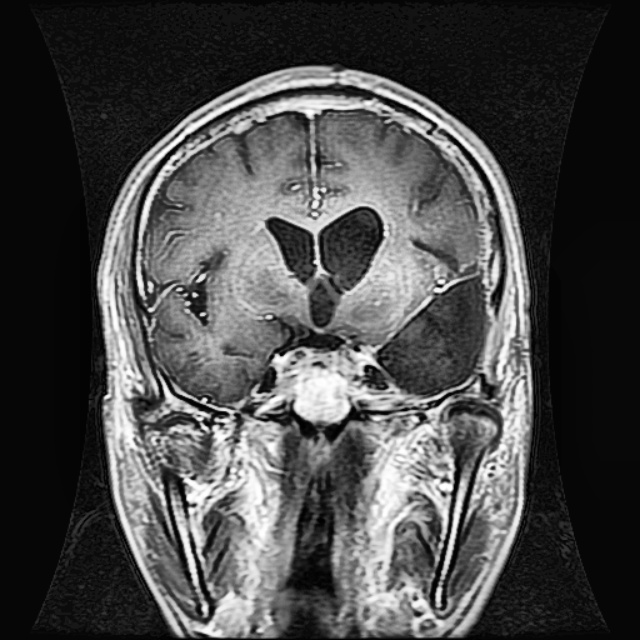Meningioma: (373, 250, 495, 399)
